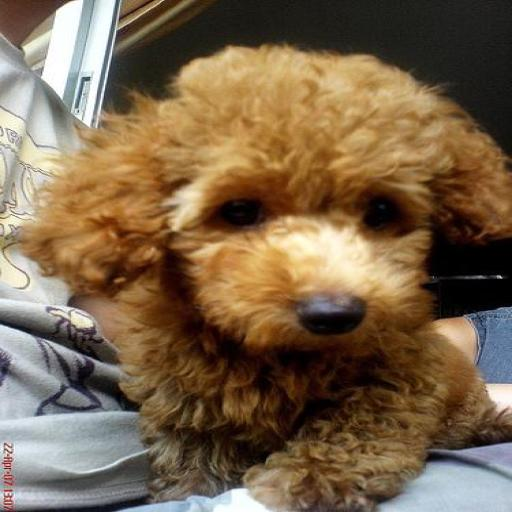dog_face: (25, 62, 509, 366)
